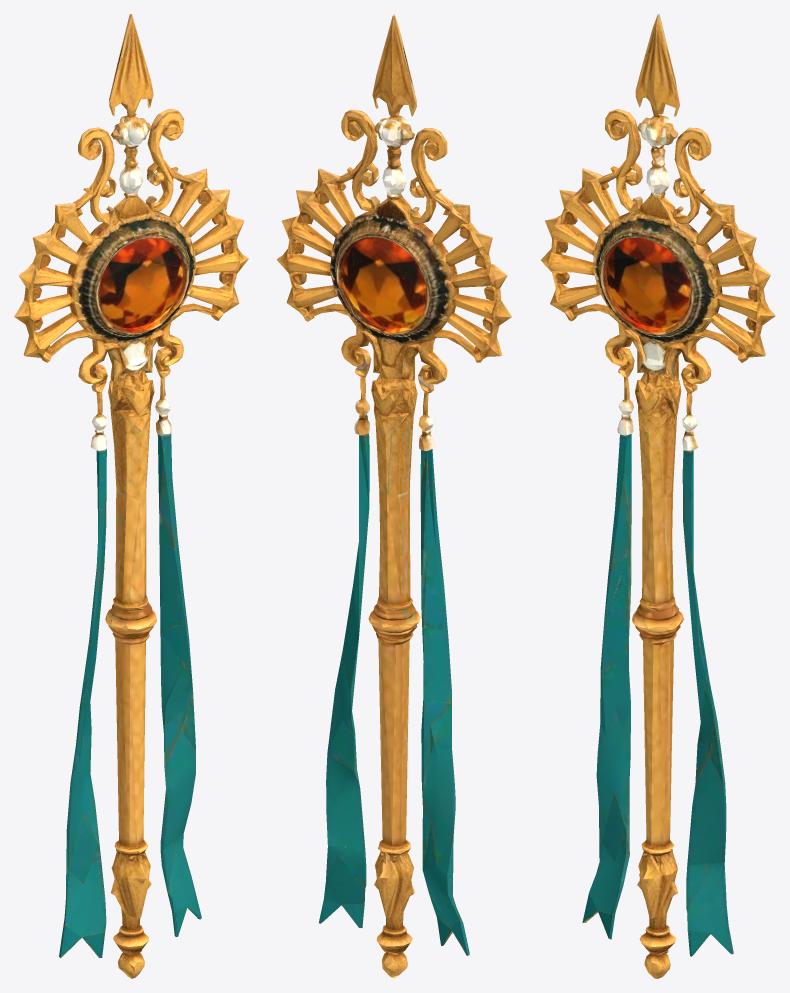
Rendered from scettro.glb.
The picture shows the model from 3 angles, left to right: view 1: azimuth 30°, elevation 25°; view 2: azimuth 150°, elevation 25°; view 3: azimuth 330°, elevation 25°; orthographic projection.
Bounding box in the file's own units: 0.485 × 1.9 × 0.1189.
Materials: 1 (1 with a texture image).
